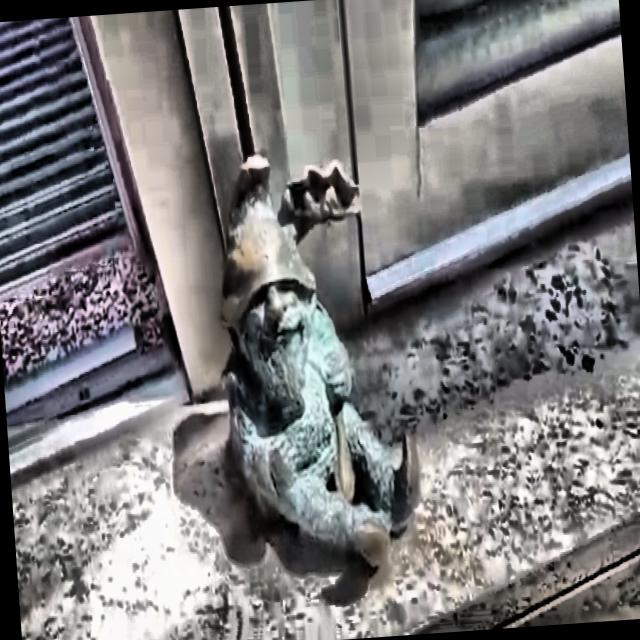Pieroznik: (220, 156, 419, 570)
